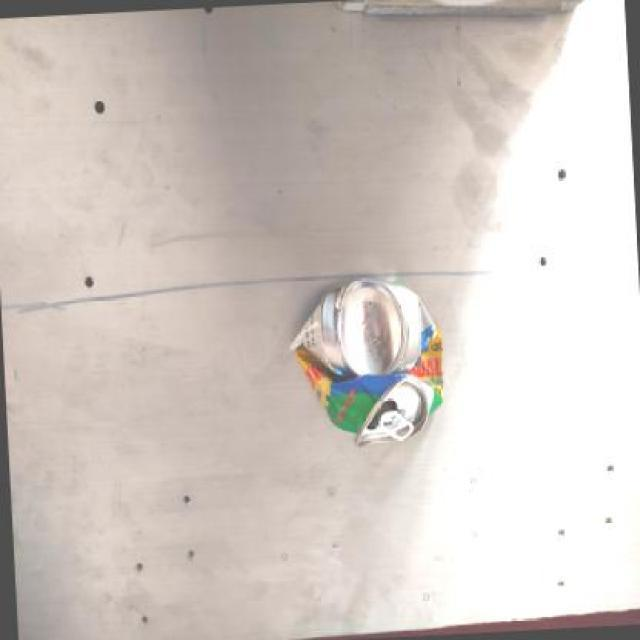recyclable: (280, 268, 449, 460)
